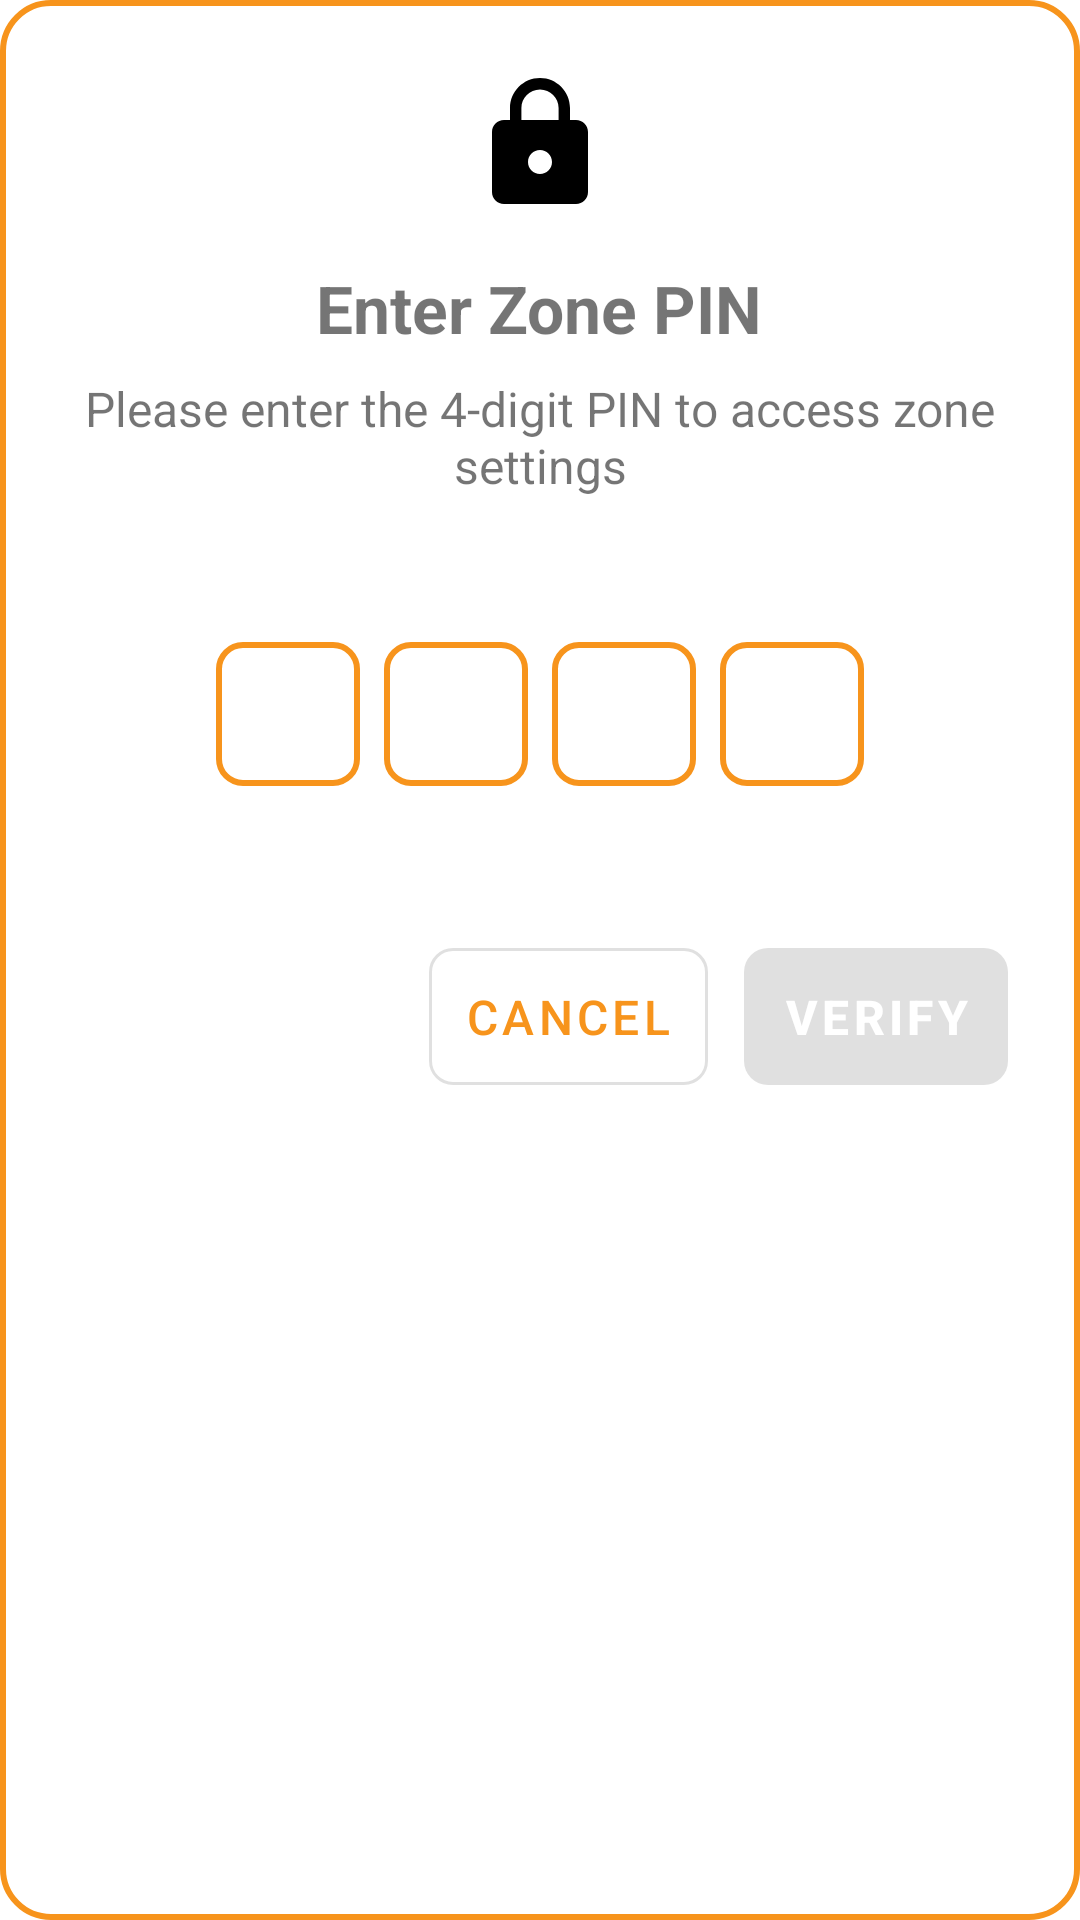

Icon click points for this 1080x1920 phone screenshot, format (x,y):
Lock Icon: (540,141)
